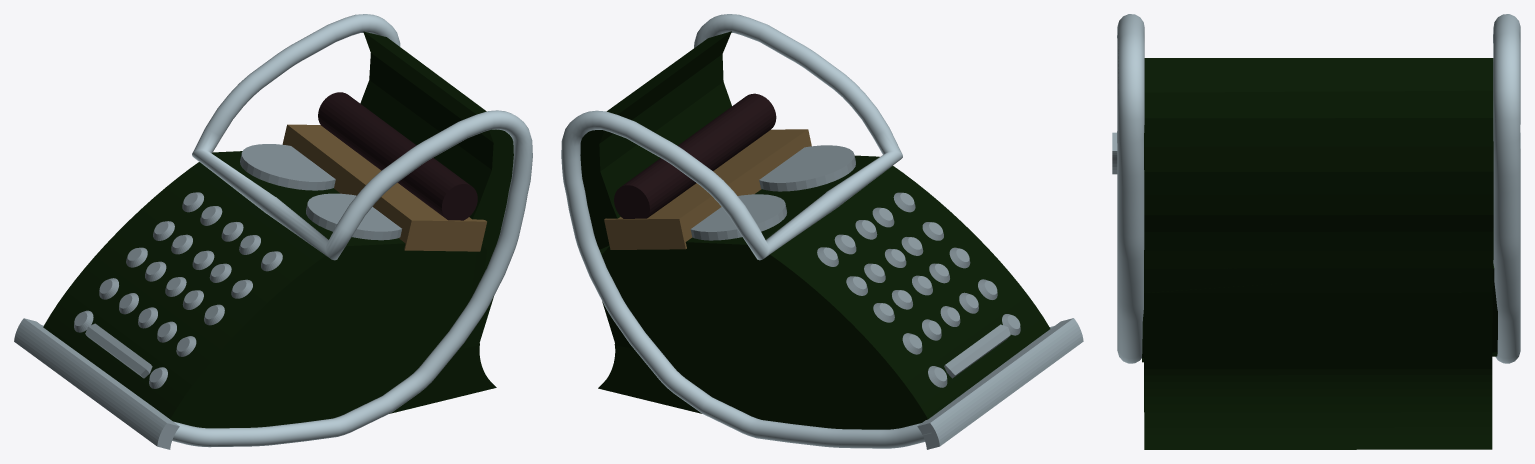
Rendered from MaquinadeEscrever1.glb.
3 renders of one model, left to right at view 1: azimuth 30°, elevation 25°; view 2: azimuth 150°, elevation 25°; view 3: azimuth 270°, elevation 25°, orthographic. The views are drawn at different scales.
Parts seen in each view (by area): view 1: CorpoMaquina, Cube.002, Suporte, CuboInterior, CilindroInterior, Cube, Cube.003, Object.004, Object.005, Space; view 2: CorpoMaquina, Cube, Suporte, CuboInterior, CilindroInterior, Cube.002, Cube.003, Object.005, Object.004, Space; view 3: Suporte, Cube.002, Cube, CorpoMaquina.
Part boxes in pixels (x1,y1,x2,y2): CorpoMaquina: [43, 151, 487, 428]; Cube.002: [172, 110, 532, 447]; Suporte: [360, 31, 513, 413]; CuboInterior: [282, 124, 486, 251]; CilindroInterior: [318, 92, 477, 220]; Cube: [42, 14, 400, 326]; Cube.003: [14, 318, 179, 449]; Object.004: [240, 144, 335, 190]; Object.005: [306, 193, 401, 240]; Space: [85, 323, 152, 378]; CorpoMaquina: [601, 155, 1050, 429]; Cube: [561, 110, 931, 448]; Suporte: [580, 31, 731, 413]; CuboInterior: [604, 129, 811, 249]; CilindroInterior: [614, 93, 776, 218]; Cube.002: [694, 14, 1053, 328]; Cube.003: [917, 318, 1083, 449]; Object.005: [759, 145, 855, 191]; Object.004: [690, 194, 786, 240]; Space: [944, 324, 1010, 378]; Suporte: [1144, 58, 1493, 449]; Cube.002: [1117, 14, 1144, 363]; Cube: [1493, 14, 1520, 363]; CorpoMaquina: [1142, 264, 1497, 362].
Bounding box in the file's own units: 2.75 × 1.98 × 1.79.
